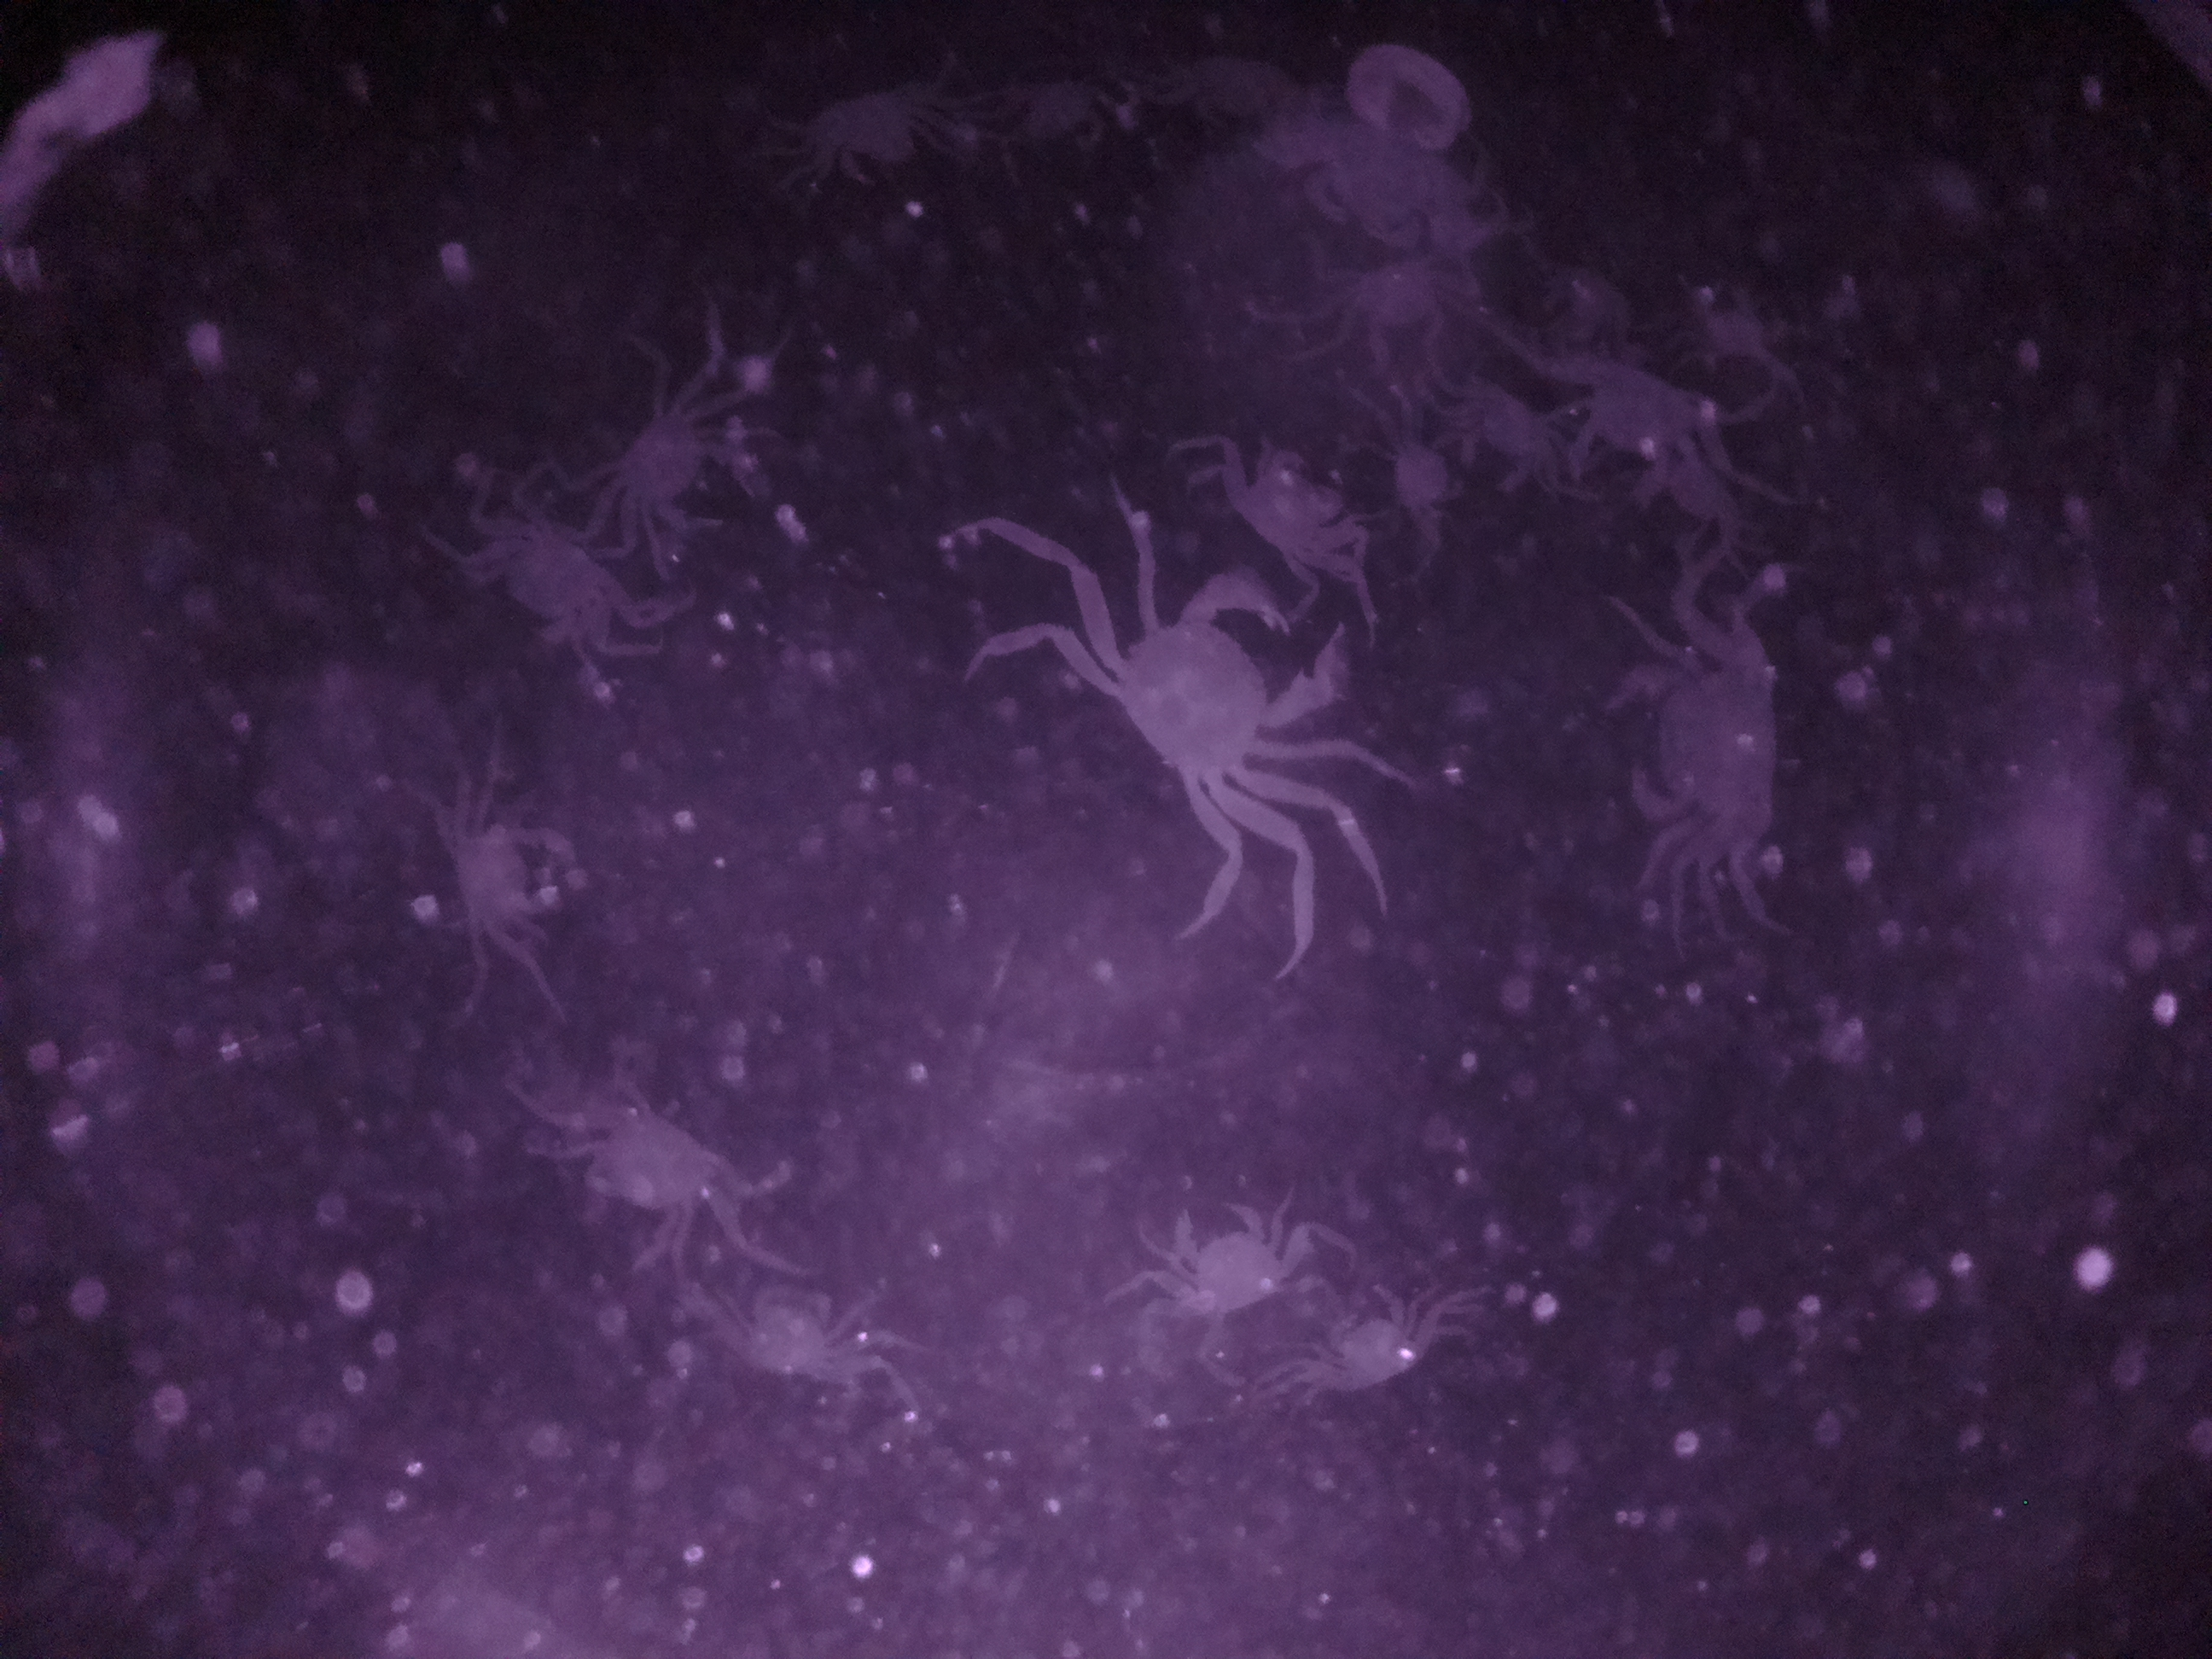Crab: (1076, 579, 1359, 831), (1597, 624, 1797, 870), (582, 371, 756, 561), (449, 511, 648, 674), (423, 788, 594, 962), (1200, 434, 1376, 587), (1132, 1188, 1313, 1328), (1282, 1272, 1451, 1412), (786, 64, 951, 206)
